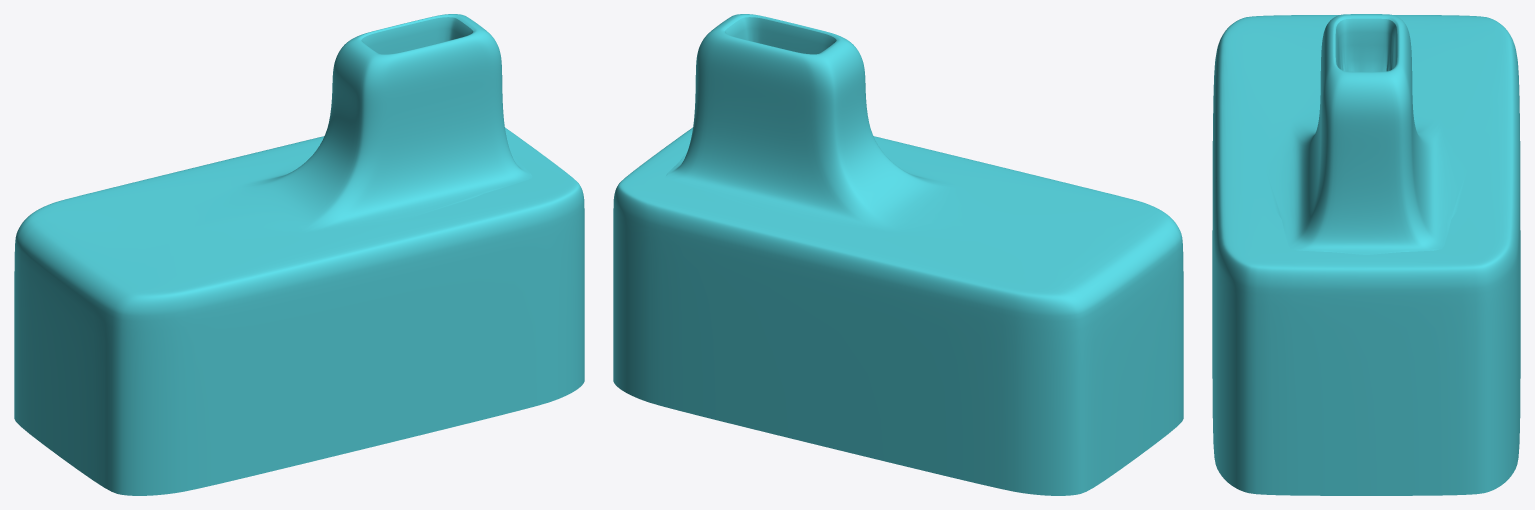
Rendered from cap.fbx.
The picture shows the model from 3 angles, left to right: view 1: azimuth 30°, elevation 25°; view 2: azimuth 150°, elevation 25°; view 3: azimuth 270°, elevation 25°; orthographic projection. The views are drawn at different scales.
Visible parts, largest first — view 1: Vape; view 2: Vape; view 3: Vape.
Boxes of the visible parts, x1,y1,x2,y2 form: Vape: (14,14,584,495); Vape: (613,14,1183,495); Vape: (1212,14,1520,495).
Size of the model in its own units: 4.27 by 2.86 by 2.08.
